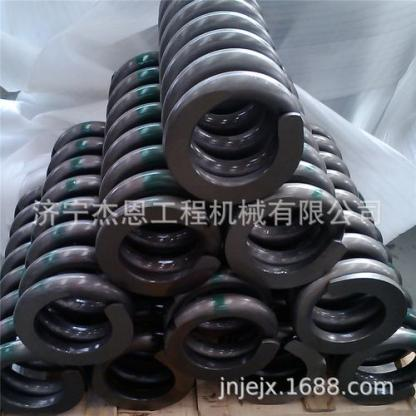FOD: (96, 52, 223, 301), (155, 0, 308, 206), (12, 122, 137, 370)
